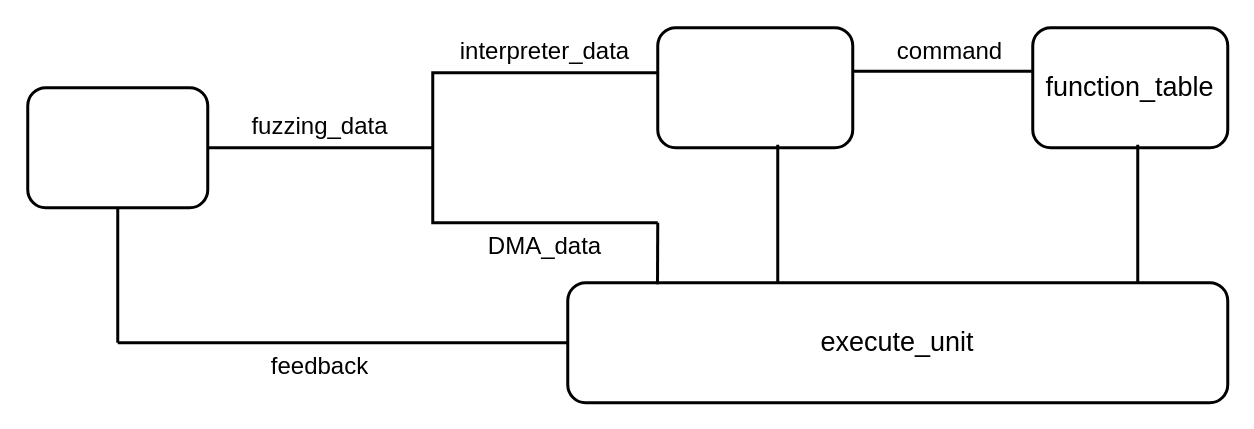
This 1254x429 diagram has some shape labels left out. The centre of each missing label's shape, as x and y in pixels:
fuzzing: pixel 117 147
interpreter: pixel 755 87
